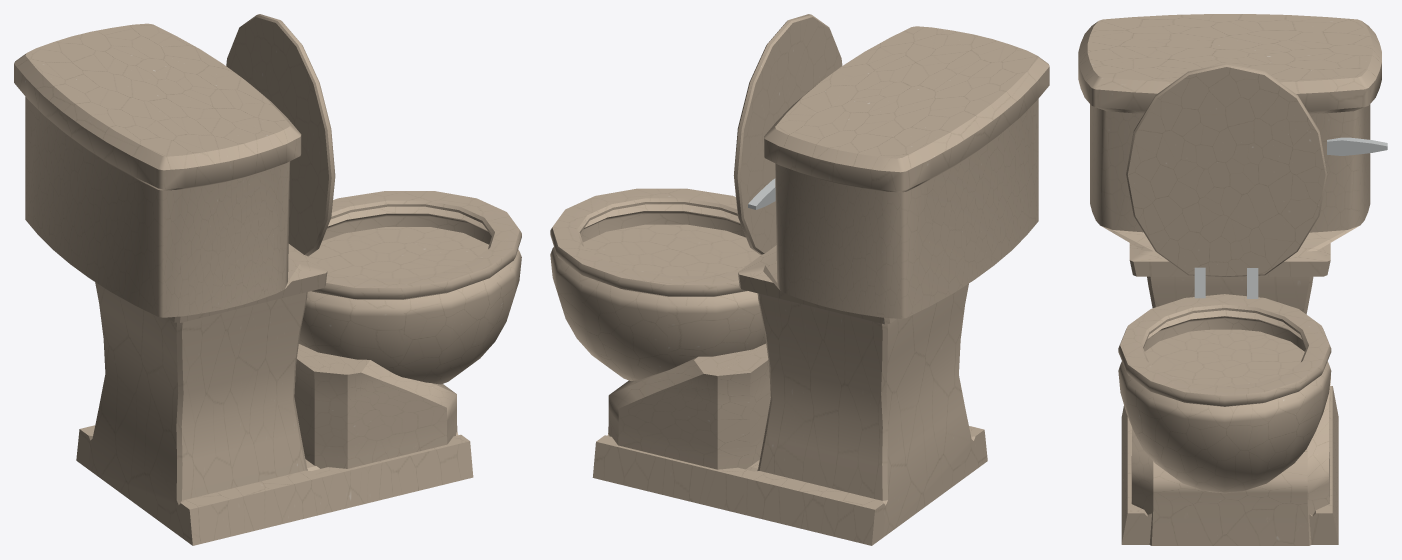
The model's file is ToiletBowl.fbx.
The picture shows the model from 3 angles, left to right: view 1: azimuth 30°, elevation 25°; view 2: azimuth 150°, elevation 25°; view 3: azimuth 270°, elevation 25°; orthographic projection. The views are drawn at different scales.
Visible parts, largest first — view 1: pCube642, pSphere86, pCube643, pCylinder473, pCylinder474; view 2: pCube642, pSphere86, pCube643, pCylinder473, pCylinder474; view 3: pCube642, pCylinder473, pSphere86, pCube643, pCylinder474, pCube646, pCube644.
Part boxes in pixels (x1=…): pCube642: x1=14, y1=23, x2=473, y2=545; pSphere86: x1=299, y1=191, x2=521, y2=384; pCube643: x1=294, y1=344, x2=457, y2=468; pCylinder473: x1=226, y1=14, x2=335, y2=256; pCylinder474: x1=308, y1=227, x2=488, y2=278; pCube642: x1=592, y1=26, x2=1049, y2=545; pSphere86: x1=550, y1=188, x2=765, y2=380; pCube643: x1=608, y1=343, x2=770, y2=469; pCylinder473: x1=733, y1=14, x2=842, y2=254; pCylinder474: x1=583, y1=224, x2=760, y2=275; pCube642: x1=1078, y1=14, x2=1381, y2=544; pCylinder473: x1=1126, y1=63, x2=1327, y2=276; pSphere86: x1=1118, y1=294, x2=1331, y2=493; pCube643: x1=1131, y1=376, x2=1330, y2=545; pCylinder474: x1=1145, y1=329, x2=1304, y2=386; pCube646: x1=1327, y1=137, x2=1387, y2=155; pCube644: x1=1194, y1=267, x2=1205, y2=298.
Bounding box in the file's own units: 1.5 × 1.49 × 0.9965.
